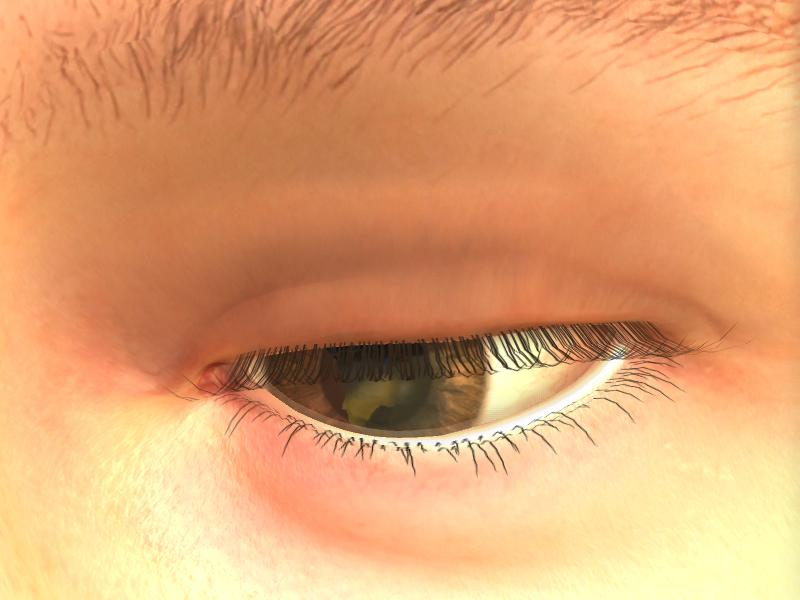eye: (269, 336, 491, 440)
